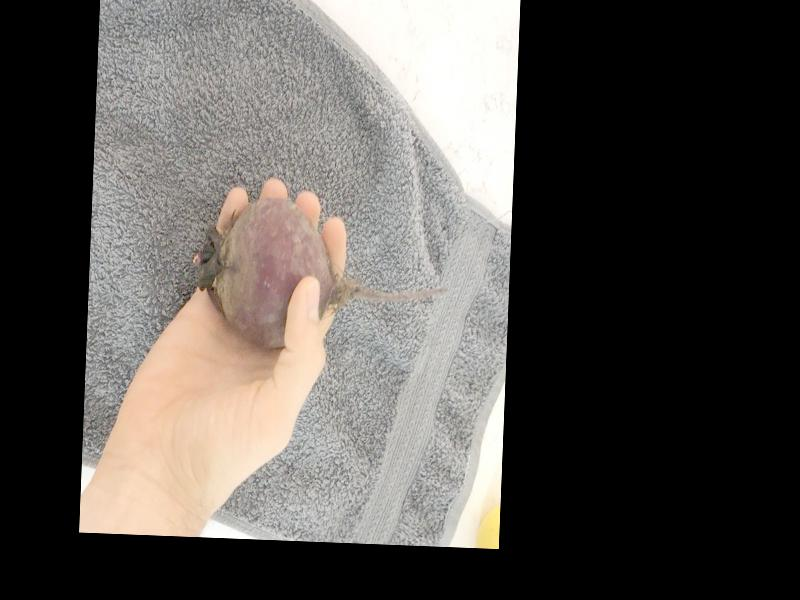Beet: (195, 193, 450, 356)
